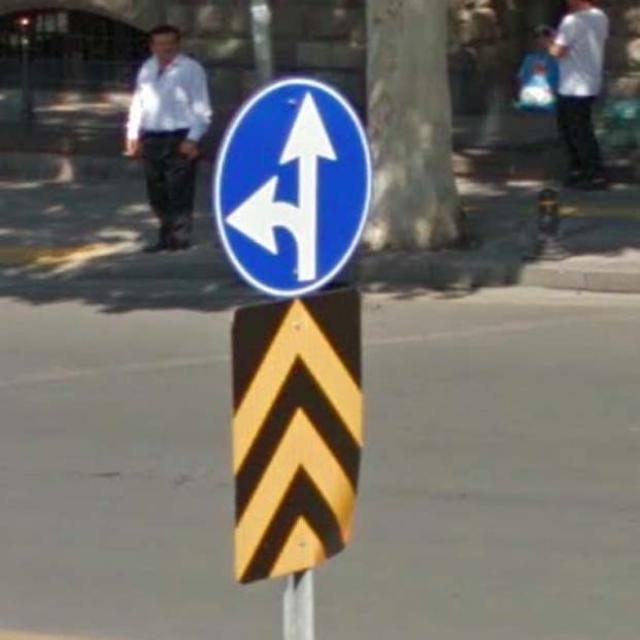ilerisol: (209, 74, 372, 295)
